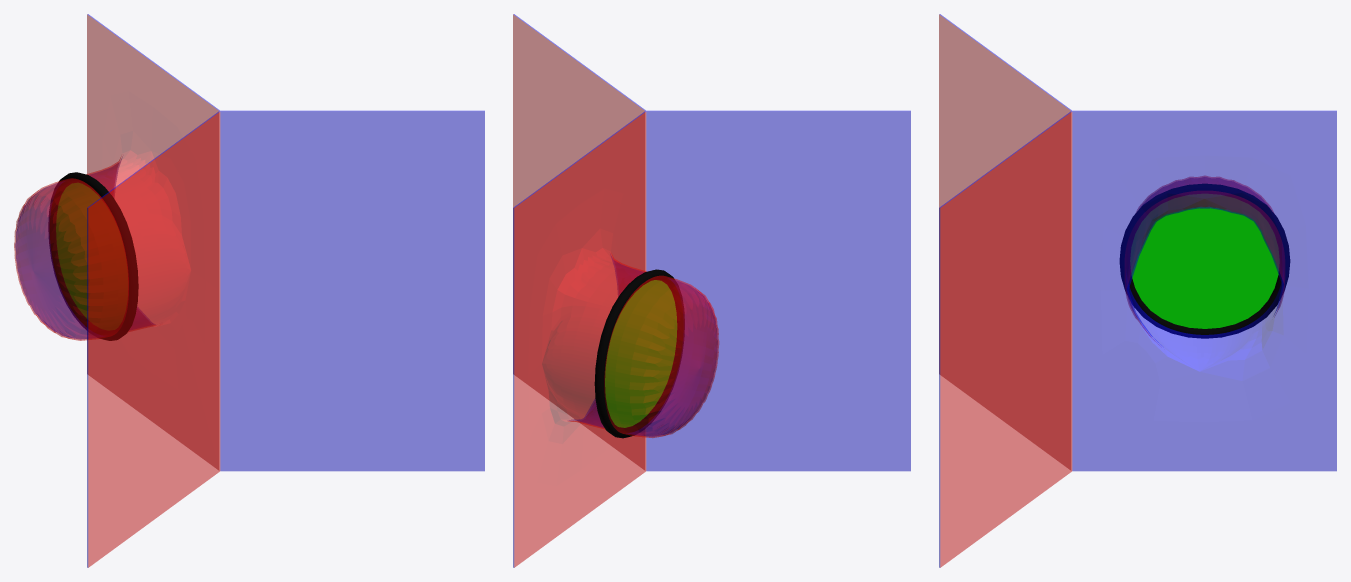
The model's file is incompressibility.glb.
3 renders of one model, left to right at view 1: azimuth 30°, elevation 25°; view 2: azimuth 150°, elevation 25°; view 3: azimuth 270°, elevation 25°, orthographic.
Visible parts, largest first — view 1: Circle, Circle.001, Circle.002; view 2: Circle, Circle.001, Circle.002; view 3: Circle, Circle.001, Circle.002.
Boxes of the visible parts, x1,y1,x2,y2 form: Circle: (14, 14, 484, 567); Circle.001: (56, 182, 127, 330); Circle.002: (48, 172, 138, 340); Circle: (513, 14, 910, 567); Circle.001: (605, 280, 677, 427); Circle.002: (594, 269, 684, 438); Circle: (939, 14, 1336, 567); Circle.001: (1130, 194, 1279, 328); Circle.002: (1119, 183, 1290, 338).
Bounding box in the file's own units: 1.73 × 1.5 × 1.5.
